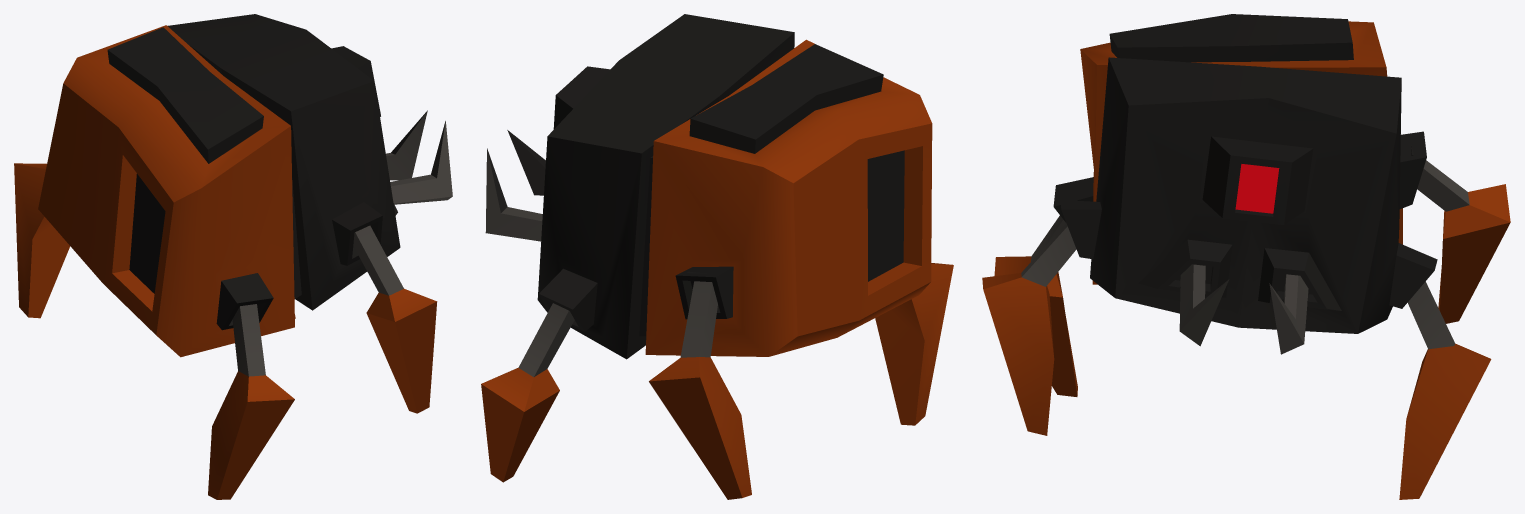
File: SPIDBOT15.obj
3 renders of one model, left to right at view 1: azimuth 30°, elevation 25°; view 2: azimuth 150°, elevation 25°; view 3: azimuth 270°, elevation 25°, orthographic. The views are drawn at different scales.
Parts seen in each view (by area): view 1: Cube.001; view 2: Cube.001; view 3: Cube.001.
Boxes of the visible parts, x1,y1,x2,y2 form: Cube.001: (14,14,452,499); Cube.001: (481,14,953,499); Cube.001: (982,14,1510,499).
Size of what is drawn, in the model's own units: 2.85 by 2.87 by 3.51.
